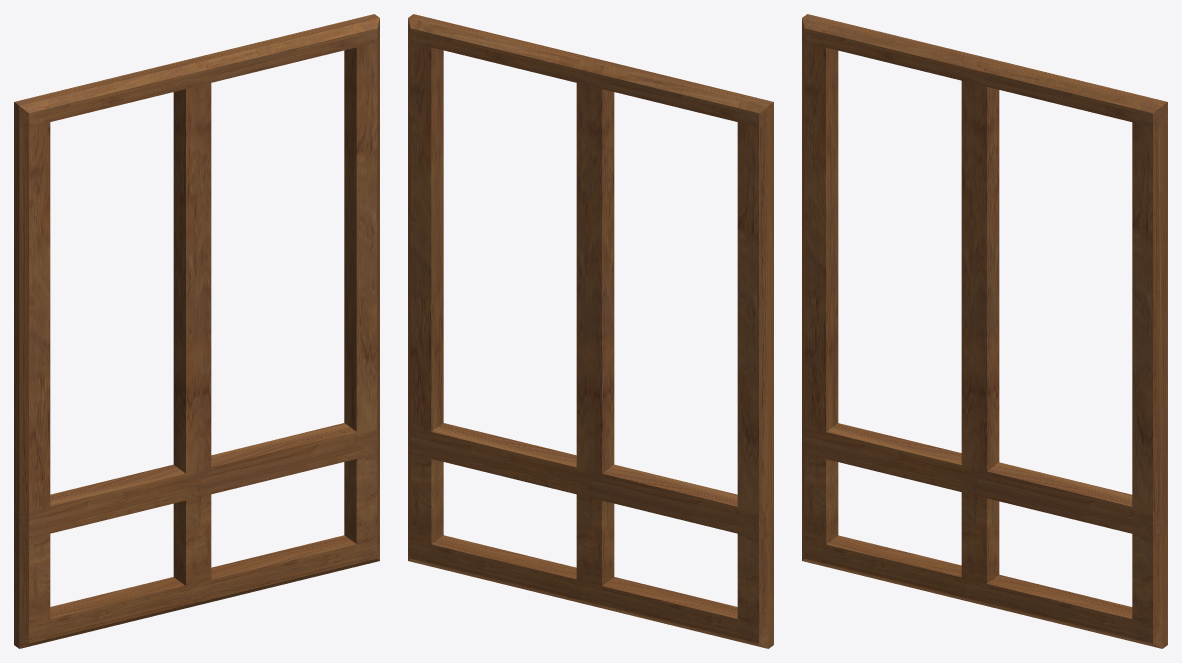
File: Window.FBX
3 views of the same model, side by side, from view 1: azimuth 30°, elevation 25°; view 2: azimuth 150°, elevation 25°; view 3: azimuth 330°, elevation 25° (orthographic).
Parts seen in each view (by area): view 1: Box001; view 2: Box001; view 3: Box001.
Boxes of the visible parts, x1,y1,x2,y2 form: Box001: (14, 14, 379, 648); Box001: (408, 14, 773, 648); Box001: (802, 14, 1167, 648).
Bounding box in the file's own units: 2761 × 3975 × 164.
